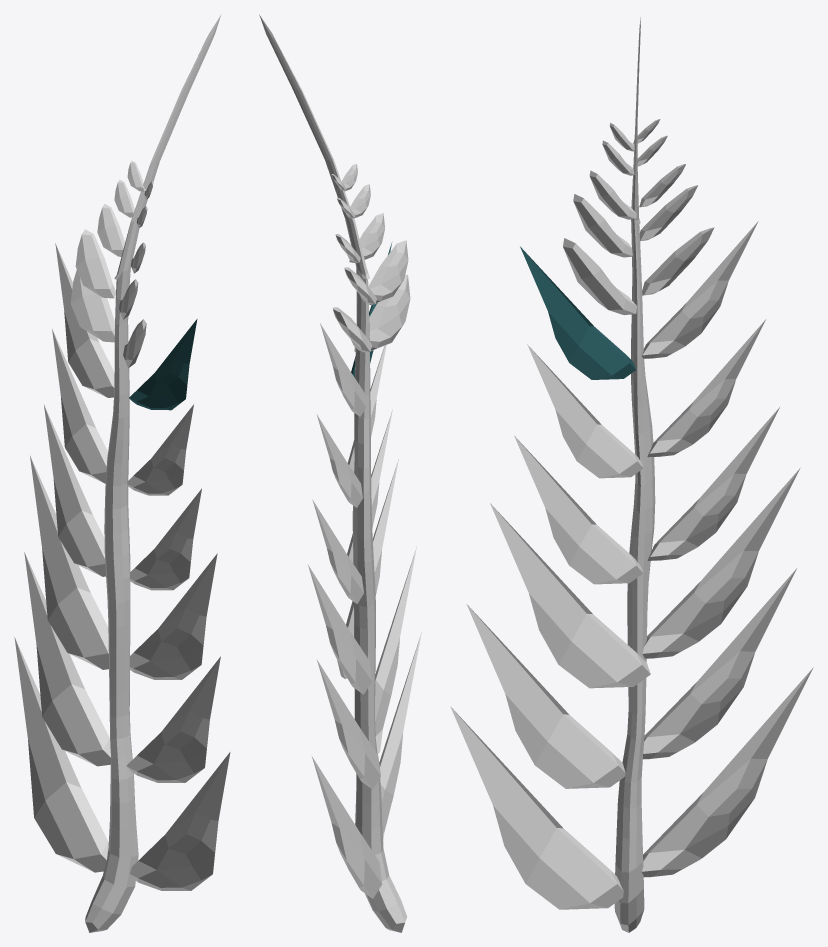
The model's file is leafy-greens-medium.fbx.
3 views of the same model, side by side, from view 1: azimuth 30°, elevation 25°; view 2: azimuth 150°, elevation 25°; view 3: azimuth 270°, elevation 25° (orthographic). The views are drawn at different scales.
Visible parts, largest first — view 1: Cube.011, Cube.013, Cube.017, Cube.019, Cube.014, Cube.018, Cube.020, Cube.021, Cube.015, Cube.022, Cube.025, Cube.016 (+6 smaller); view 2: Cube.011, Cube.013, Cube.017, Cube.019, Cube.018, Cube.014, Cube.028, Cube.021, Cube.030, Cube.025, Cube.015, Cube.020 (+6 smaller); view 3: Cube.011, Cube.014, Cube.020, Cube.018, Cube.013, Cube.019, Cube.017, Cube.022, Cube.016, Cube.026, Cube.021, Cube.015 (+6 smaller).
Part boxes in pixels (x1,y1,x2,y2): Cube.011: [85, 15, 220, 932]; Cube.013: [14, 637, 108, 872]; Cube.017: [24, 552, 110, 766]; Cube.019: [30, 456, 108, 669]; Cube.014: [130, 752, 230, 890]; Cube.018: [126, 656, 220, 782]; Cube.020: [129, 553, 217, 679]; Cube.021: [44, 405, 105, 576]; Cube.015: [52, 329, 107, 483]; Cube.022: [129, 488, 201, 590]; Cube.025: [55, 243, 114, 397]; Cube.016: [127, 404, 193, 495]; Cube.011: [259, 14, 407, 932]; Cube.013: [312, 756, 382, 898]; Cube.017: [316, 659, 380, 789]; Cube.019: [308, 565, 371, 694]; Cube.018: [375, 546, 416, 753]; Cube.014: [379, 632, 421, 840]; Cube.028: [354, 274, 410, 351]; Cube.021: [312, 499, 363, 603]; Cube.030: [368, 240, 408, 304]; Cube.025: [320, 323, 366, 416]; Cube.015: [316, 414, 362, 507]; Cube.020: [337, 458, 398, 678]; Cube.011: [614, 17, 655, 932]; Cube.014: [450, 706, 623, 909]; Cube.020: [490, 503, 650, 688]; Cube.018: [466, 604, 625, 788]; Cube.013: [641, 667, 813, 877]; Cube.019: [642, 468, 800, 658]; Cube.017: [643, 568, 796, 759]; Cube.022: [514, 435, 643, 584]; Cube.016: [527, 344, 643, 478]; Cube.026: [520, 246, 635, 379]; Cube.021: [647, 407, 779, 560]; Cube.015: [647, 319, 765, 457].
Size of the model in its own units: 150 by 867 by 290.
